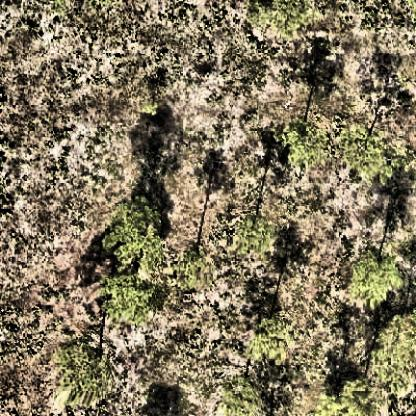tree-top: (46, 340, 128, 414), (98, 199, 176, 272), (368, 315, 416, 401), (97, 272, 167, 326), (344, 248, 405, 309), (336, 124, 393, 185), (273, 119, 338, 171), (245, 313, 297, 368), (238, 1, 317, 35), (172, 244, 223, 294), (212, 377, 266, 416), (232, 213, 280, 256)
